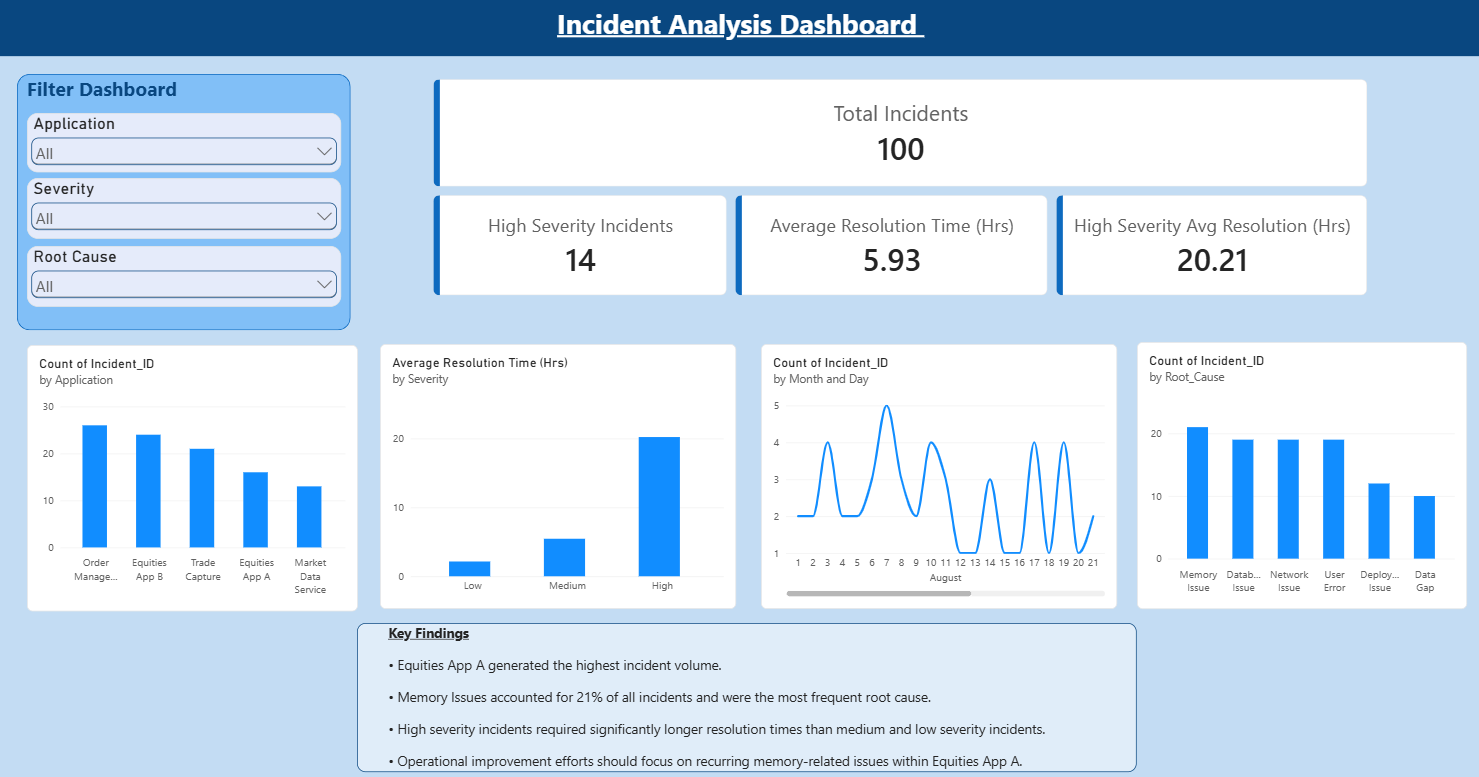

Layout of this report page (visuals, bound fields, positions):
{"tool":"powerbi","page":{"name":"Page 1","canvas":[2050,1100],"ordinal":0},"visuals":[{"type":"shape","box":[24.3,114,460.8,354.1],"z":0},{"type":"cardVisual","fields":{"Data":["incidents.Total Incidents"]},"box":[594.1,116.4,1302.3,160.1],"z":1000},{"type":"cardVisual","fields":{"Data":["incidents.High Severity Incidents"]},"box":[594.1,276.5,417.1,150.4],"z":2000},{"type":"cardVisual","fields":{"Data":["incidents.Average Resolution Time"]},"box":[1011.3,276.5,443.8,150.4],"z":3000},{"type":"cardVisual","fields":{"Data":["incidents.High Severity Avg Resolution"]},"box":[1455.1,276.5,441.4,150.4],"z":4000},{"type":"clusteredColumnChart","fields":{"Category":["incidents.Application"],"Y":["CountNonNull(incidents.Incident_ID)"]},"box":[38.6,488.3,456.5,368],"z":5000},{"type":"clusteredColumnChart","fields":{"Category":["incidents.Root_Cause"],"Y":["CountNonNull(incidents.Incident_ID)"]},"box":[1571.5,485,455.9,368.6],"z":6000},{"type":"lineChart","fields":{"Category":["incidents.Date.Variation.Date Hierarchy.Month","incidents.Date.Variation.Date Hierarchy.Day"],"Y":["CountNonNull(incidents.Incident_ID)"]},"box":[1052.5,487.4,492.3,366.2],"z":7000},{"type":"clusteredColumnChart","fields":{"Category":["incidents.Severity"],"Y":["incidents.Average Resolution Time"]},"box":[526.2,487.4,492.3,366.2],"z":8000},{"type":"slicer","fields":{"Values":["incidents.Application"]},"box":[38.6,168.1,433.8,81.8],"z":9000},{"type":"slicer","fields":{"Values":["incidents.Severity"]},"box":[38.6,258.9,433.8,84],"z":10000},{"type":"slicer","fields":{"Values":["incidents.Root_Cause"]},"box":[38.6,352.1,433.8,84],"z":11000},{"type":"textbox","box":[494.7,873,1076.7,206.1],"z":12000},{"type":"textbox","box":[0,0,2049.2,89.7],"z":13000},{"type":"textbox","box":[38.6,115.8,329.3,52.2],"z":14000}]}

Visuals, with their boxes in screenshot pixels (x1, y1, x2, y2), scaled from the page's 2050x1100 canvas onto the 1479x777 screenshot:
shape: 18, 81, 350, 331
cardVisual - incidents.Total Incidents: 429, 82, 1368, 195
cardVisual - incidents.High Severity Incidents: 429, 195, 730, 302
cardVisual - incidents.Average Resolution Time: 730, 195, 1050, 302
cardVisual - incidents.High Severity Avg Resolution: 1050, 195, 1368, 302
clusteredColumnChart - incidents.Application x CountNonNull(incidents.Incident_ID): 28, 345, 357, 605
clusteredColumnChart - incidents.Root_Cause x CountNonNull(incidents.Incident_ID): 1134, 343, 1463, 603
lineChart - incidents.Date.Variation.Date Hierarchy.Month x incidents.Date.Variation.Date Hierarchy.Day: 759, 344, 1115, 603
clusteredColumnChart - incidents.Severity x incidents.Average Resolution Time: 380, 344, 735, 603
slicer - incidents.Application: 28, 119, 341, 177
slicer - incidents.Severity: 28, 183, 341, 242
slicer - incidents.Root_Cause: 28, 249, 341, 308
textbox: 357, 617, 1134, 762
textbox: 0, 0, 1478, 63
textbox: 28, 82, 265, 119
